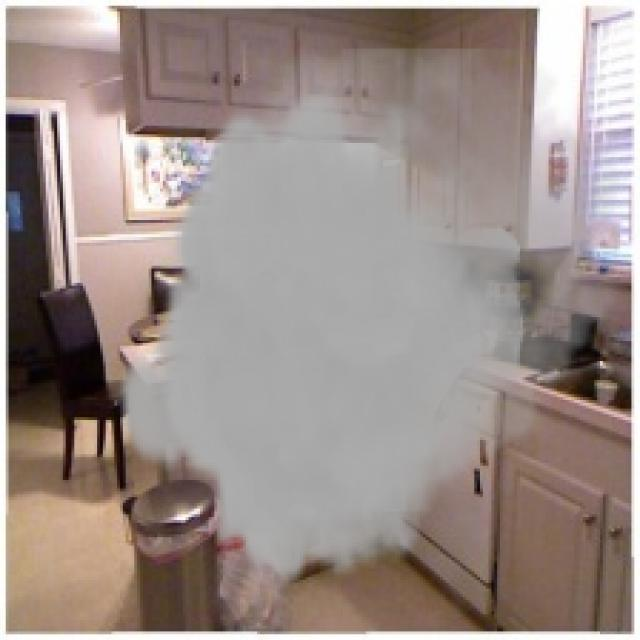Smoke: (114, 49, 637, 588)
